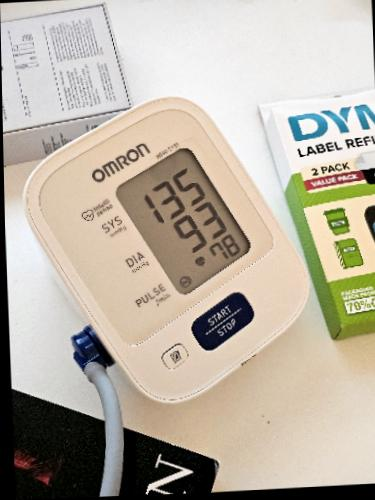bpm: (111, 142, 256, 299)
